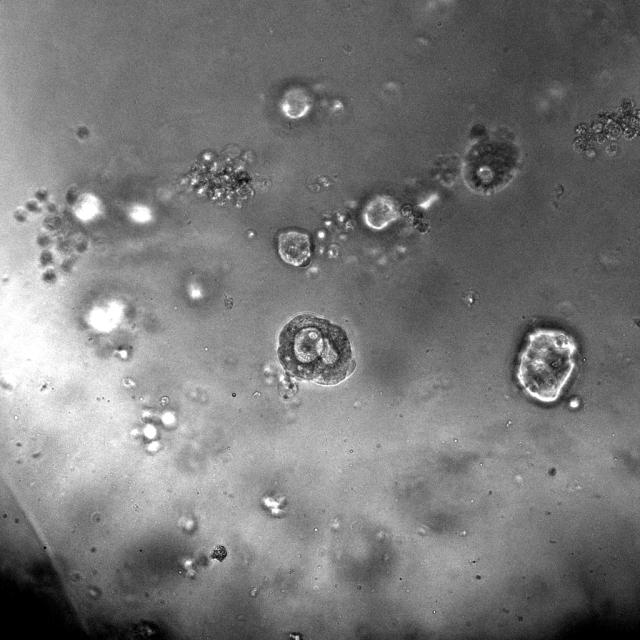organoid: (13, 187, 89, 284), (277, 314, 355, 400), (516, 329, 581, 410), (461, 123, 522, 195), (181, 146, 254, 206), (572, 98, 639, 156), (278, 229, 312, 267), (400, 202, 429, 233), (210, 545, 227, 561)
